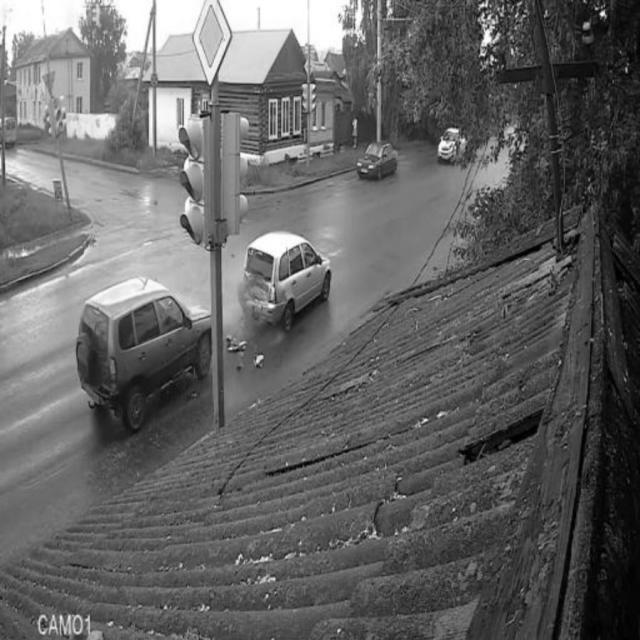vehicle: (76, 272, 210, 432), (238, 227, 332, 333), (355, 140, 402, 182), (435, 124, 470, 169), (1, 108, 23, 153)
